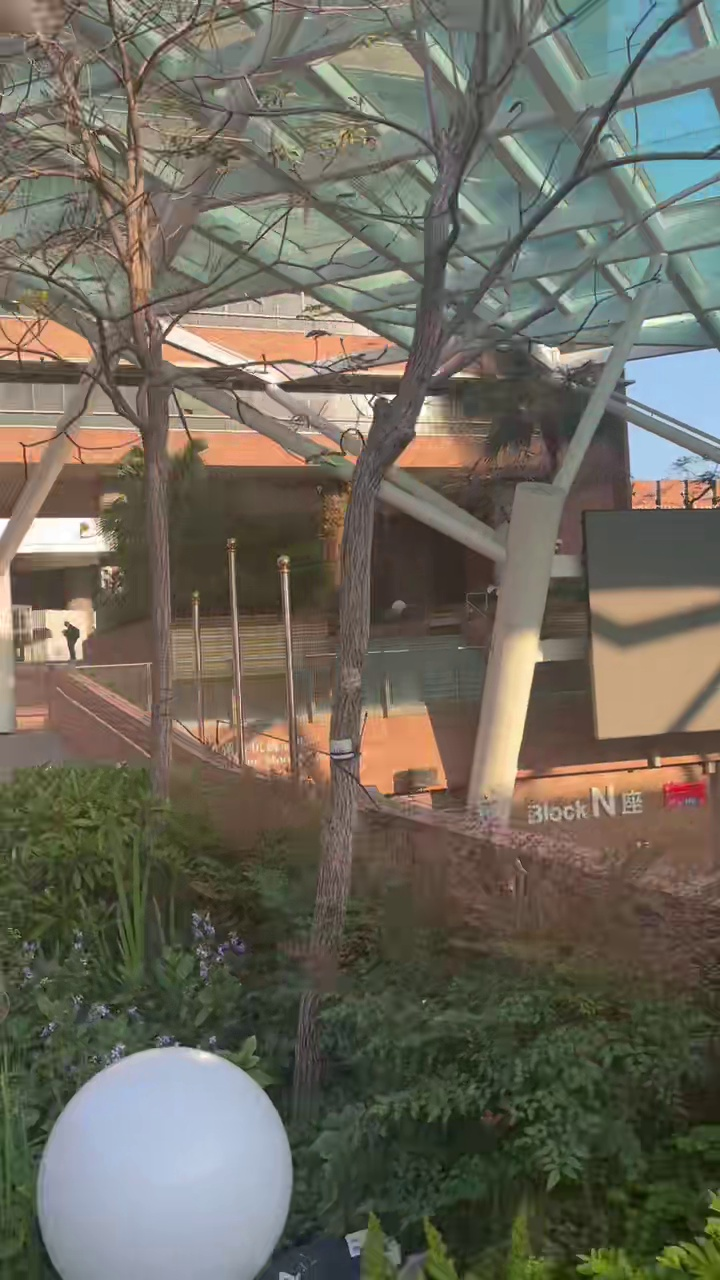Tabebuia chrysantha: (293, 27, 629, 1110)
